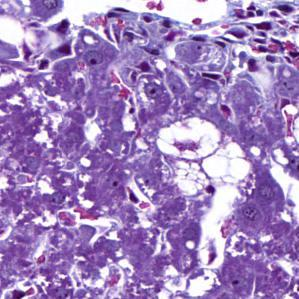ballooning: (157, 116, 223, 162)
